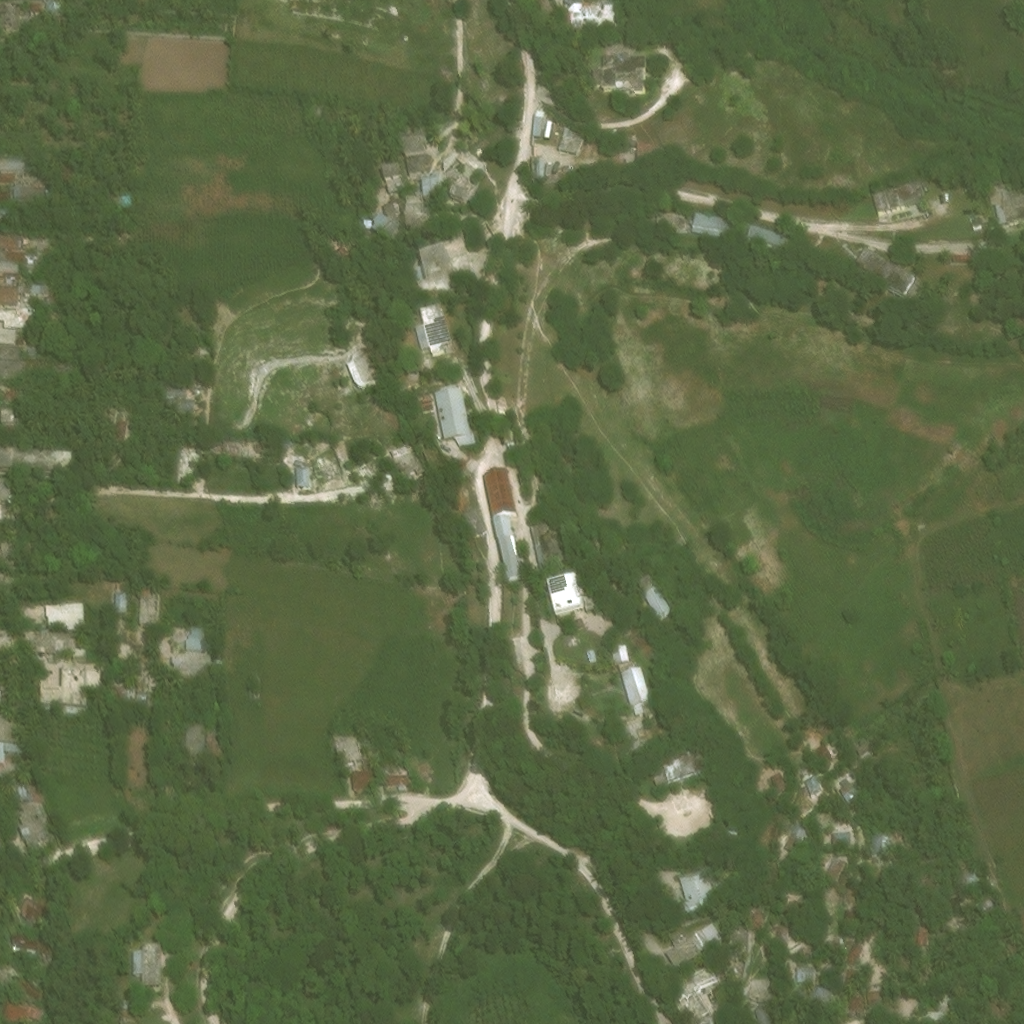destroyed: (129, 685, 147, 701), (109, 678, 128, 693), (142, 682, 155, 697), (142, 668, 154, 682)
major_damage: (0, 276, 45, 298), (140, 941, 161, 983), (0, 300, 40, 322), (328, 725, 358, 751), (649, 209, 687, 228), (201, 719, 218, 744), (445, 172, 466, 192), (450, 163, 470, 181), (436, 180, 450, 192), (451, 190, 458, 198)
minor_damage: (855, 250, 926, 306), (667, 929, 727, 975), (587, 60, 650, 103), (0, 449, 83, 478), (654, 754, 713, 793), (675, 974, 721, 1023), (529, 518, 569, 570), (875, 190, 929, 222), (38, 667, 87, 702), (568, 1, 619, 32), (390, 441, 426, 480), (23, 630, 77, 655), (994, 192, 1023, 235), (170, 626, 214, 650), (9, 869, 39, 901), (0, 902, 34, 923), (558, 128, 584, 155), (0, 223, 31, 244), (346, 760, 377, 779), (290, 447, 307, 478), (396, 129, 420, 150), (4, 945, 29, 965), (0, 151, 35, 165), (825, 856, 846, 879), (0, 242, 31, 257), (11, 179, 44, 193), (7, 959, 27, 981), (381, 764, 409, 779), (794, 959, 815, 978), (395, 183, 416, 201), (113, 594, 129, 617), (0, 197, 20, 215), (869, 831, 886, 852), (536, 159, 548, 188), (129, 945, 142, 969), (161, 381, 186, 393), (0, 265, 22, 278), (218, 434, 240, 447), (164, 395, 187, 407), (0, 254, 22, 265), (357, 745, 371, 761), (0, 180, 12, 197), (199, 662, 214, 675), (346, 748, 357, 761), (140, 592, 151, 605), (0, 164, 11, 176), (561, 0, 573, 11), (31, 924, 41, 936), (29, 935, 39, 945)
no_damage: (420, 249, 475, 306), (436, 388, 478, 450), (680, 870, 726, 921), (551, 583, 591, 626), (483, 467, 516, 515), (424, 313, 455, 363), (13, 784, 42, 826), (787, 975, 832, 1002), (626, 681, 656, 719), (645, 586, 675, 623), (497, 531, 521, 576), (813, 737, 847, 768), (746, 223, 786, 248), (692, 211, 733, 234), (399, 200, 430, 227), (363, 193, 391, 222), (178, 713, 202, 745), (787, 831, 811, 863), (370, 135, 393, 166), (458, 501, 482, 528), (394, 152, 414, 183), (747, 996, 770, 1022), (772, 773, 794, 799), (842, 936, 864, 960), (394, 111, 418, 132), (413, 153, 434, 177), (1001, 931, 1020, 956), (774, 921, 794, 944), (374, 173, 393, 197), (957, 867, 979, 887), (416, 334, 432, 361), (870, 867, 890, 888), (493, 512, 512, 534), (0, 355, 22, 373), (0, 339, 23, 356), (938, 996, 956, 1017), (830, 931, 852, 948), (831, 832, 852, 849), (807, 780, 824, 801), (617, 658, 634, 679), (915, 924, 932, 943), (421, 398, 436, 419), (859, 734, 877, 751), (863, 983, 879, 1002), (640, 573, 657, 590), (841, 1008, 860, 1023), (839, 779, 855, 796), (624, 673, 643, 687), (979, 893, 995, 909), (0, 968, 12, 988), (842, 884, 856, 901), (0, 994, 11, 1013), (921, 1013, 941, 1023), (464, 455, 477, 469), (957, 856, 970, 869), (404, 412, 417, 425), (818, 938, 834, 948), (424, 147, 437, 159), (412, 398, 422, 411), (954, 257, 980, 262), (12, 330, 23, 341), (31, 242, 42, 253), (415, 409, 425, 421), (636, 719, 648, 726), (281, 432, 289, 437)
unclassified: (641, 150, 672, 171), (0, 707, 17, 735), (19, 140, 50, 155), (0, 480, 11, 522), (23, 353, 53, 368), (605, 164, 633, 179), (0, 0, 19, 21), (0, 403, 21, 421), (549, 176, 576, 189), (0, 420, 13, 439), (1, 385, 17, 399), (27, 0, 42, 14), (0, 628, 11, 645), (23, 342, 39, 352), (0, 684, 5, 695)
